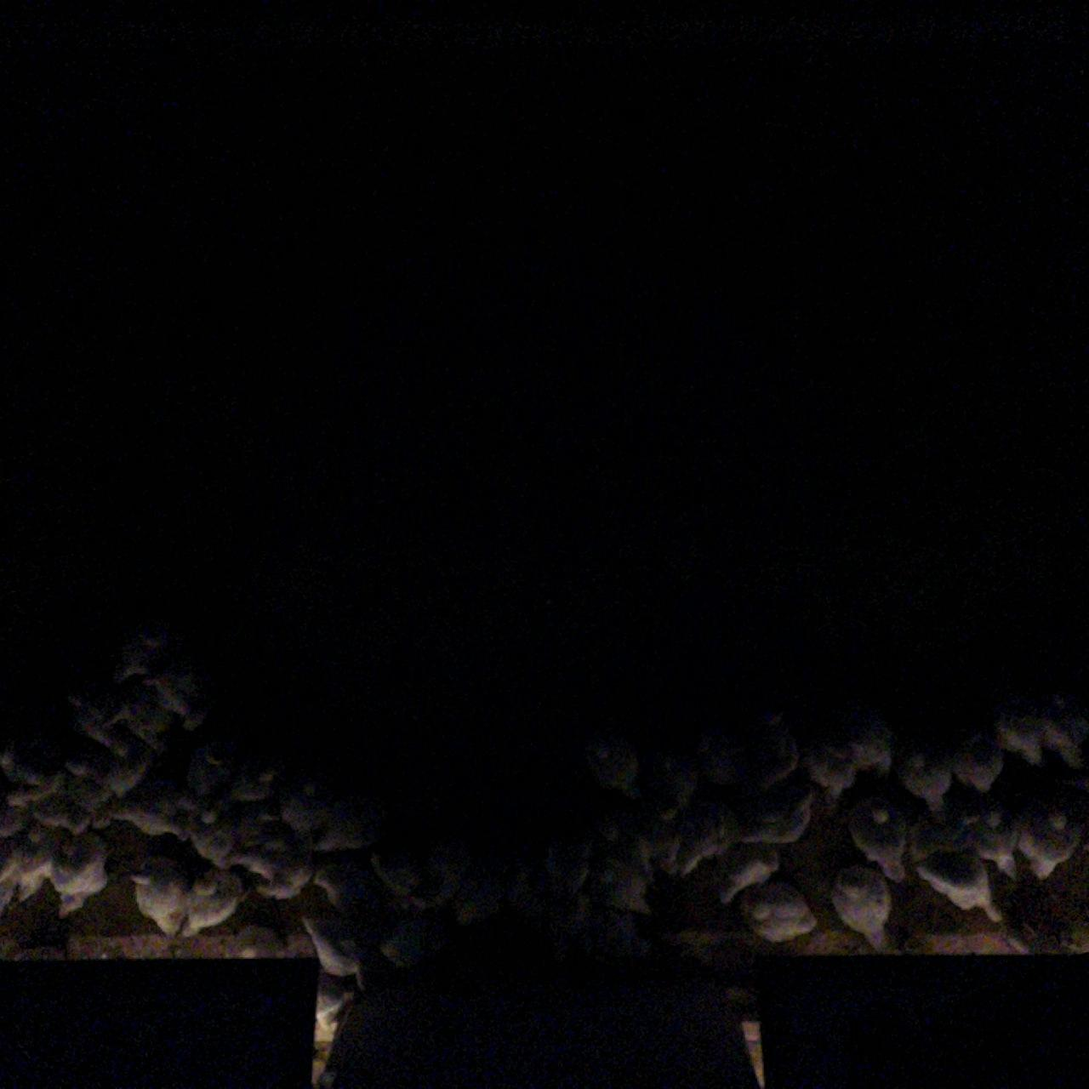chicken: (917, 857, 1003, 926), (830, 869, 894, 950), (713, 849, 784, 921), (50, 838, 111, 918), (849, 808, 912, 883), (740, 792, 815, 849), (299, 914, 364, 979), (745, 887, 820, 943), (969, 808, 1023, 882), (1022, 810, 1075, 882), (181, 878, 240, 942), (897, 753, 951, 822), (599, 857, 653, 920), (131, 874, 183, 939), (804, 743, 851, 812), (108, 799, 182, 841), (188, 813, 240, 866), (0, 849, 49, 904), (153, 668, 203, 721), (671, 826, 727, 872), (956, 742, 998, 802), (256, 852, 310, 898), (32, 797, 88, 841), (311, 867, 365, 912), (1041, 723, 1089, 773), (998, 720, 1045, 769), (114, 701, 162, 748), (852, 733, 891, 786), (1, 749, 50, 787), (81, 704, 123, 748), (107, 758, 153, 798), (281, 793, 324, 835), (316, 822, 371, 854), (229, 769, 276, 806)
